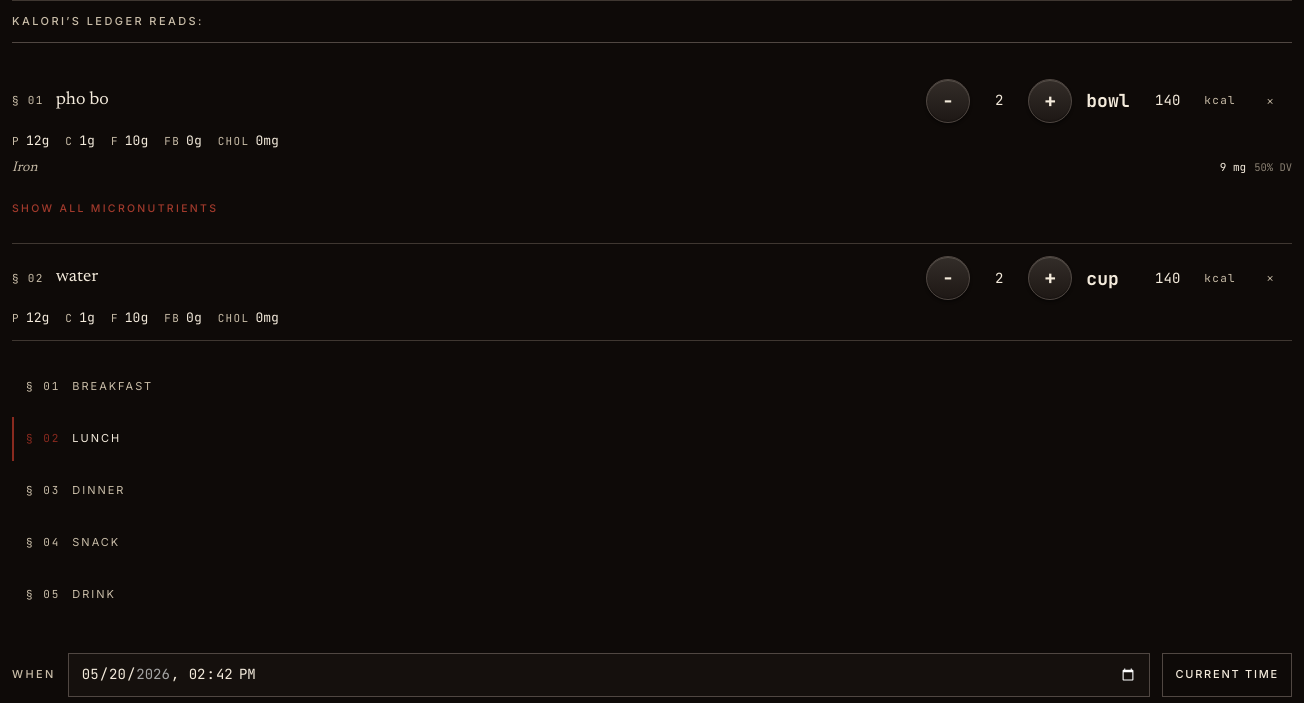
Scenario: <ConfirmationScreen /> › standard parsed-food micronutrient toggle expands all nonzero micros and hides all-zero rows
Click the button "Show all micronutrients". click: [115, 209]
box: [12,187,218,231]
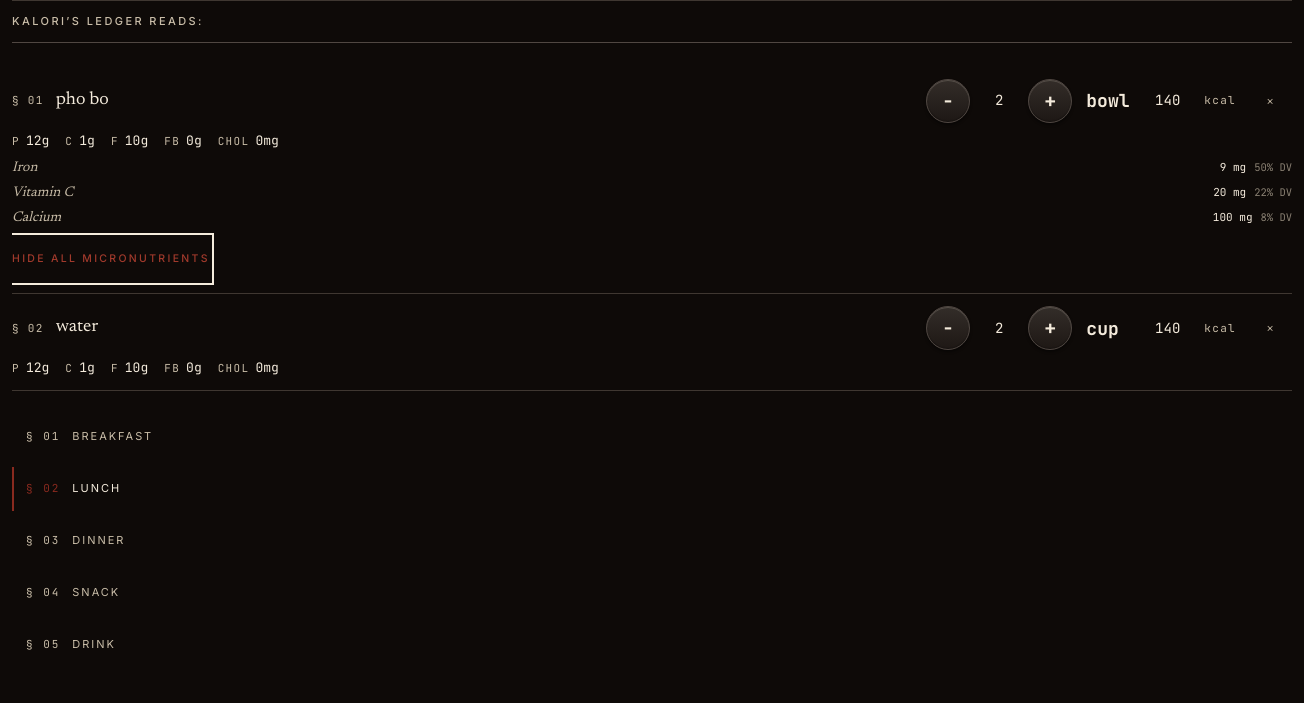
Result: the button "Hide all micronutrients" is shown at [12,237,210,281]
Result: the text "Vitamin C" is shown at [12,186,74,200]
